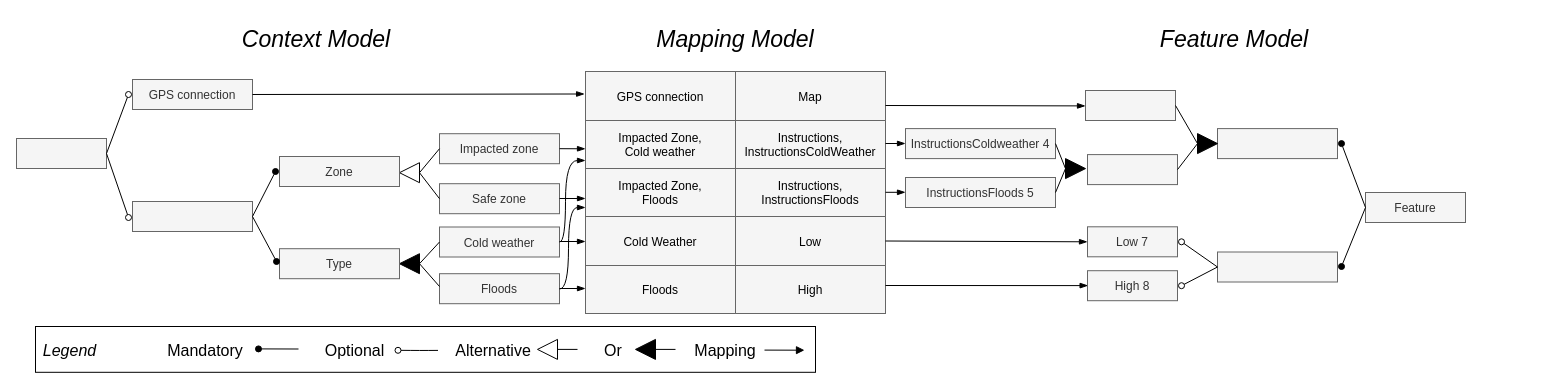
The diagram is 1561 pixels wide and 389 high, and some of its shapes have lost their labels. Each missing label, with the centre of its shape:
"Context" goes at point 61,153.
"EmergencyLevel 6" goes at point 1277,266.
"Hazard" goes at point 192,216.
"Instructions 2" goes at point 1132,169.
"Map 3" goes at point 1130,105.
"Widget 1" goes at point 1277,143.
